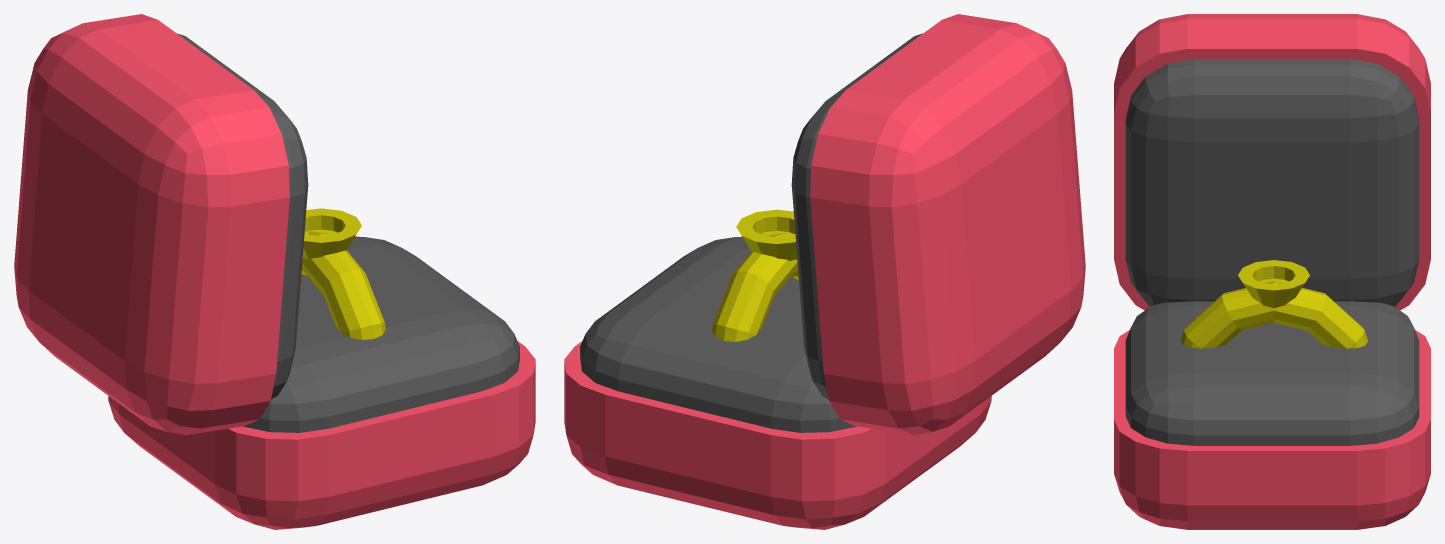
Rendered from Ring.fbx.
The picture shows the model from 3 angles, left to right: view 1: azimuth 30°, elevation 25°; view 2: azimuth 150°, elevation 25°; view 3: azimuth 270°, elevation 25°; orthographic projection. The views are drawn at different scales.
Visible parts, largest first — view 1: Ring; view 2: Ring; view 3: Ring.
Boxes of the visible parts, x1,y1,x2,y2 form: Ring: (14,14,535,529); Ring: (564,14,1085,529); Ring: (1114,14,1430,529).
Size of the model in its own units: 279 by 295 by 216.
